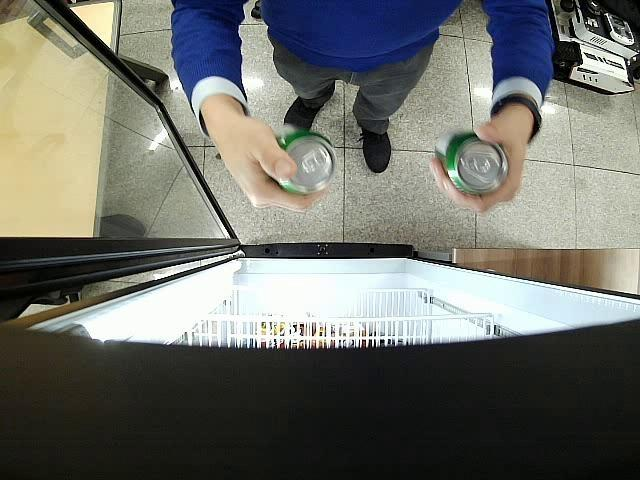12_chilsungCider: (436, 129, 509, 196), (276, 124, 337, 194)
